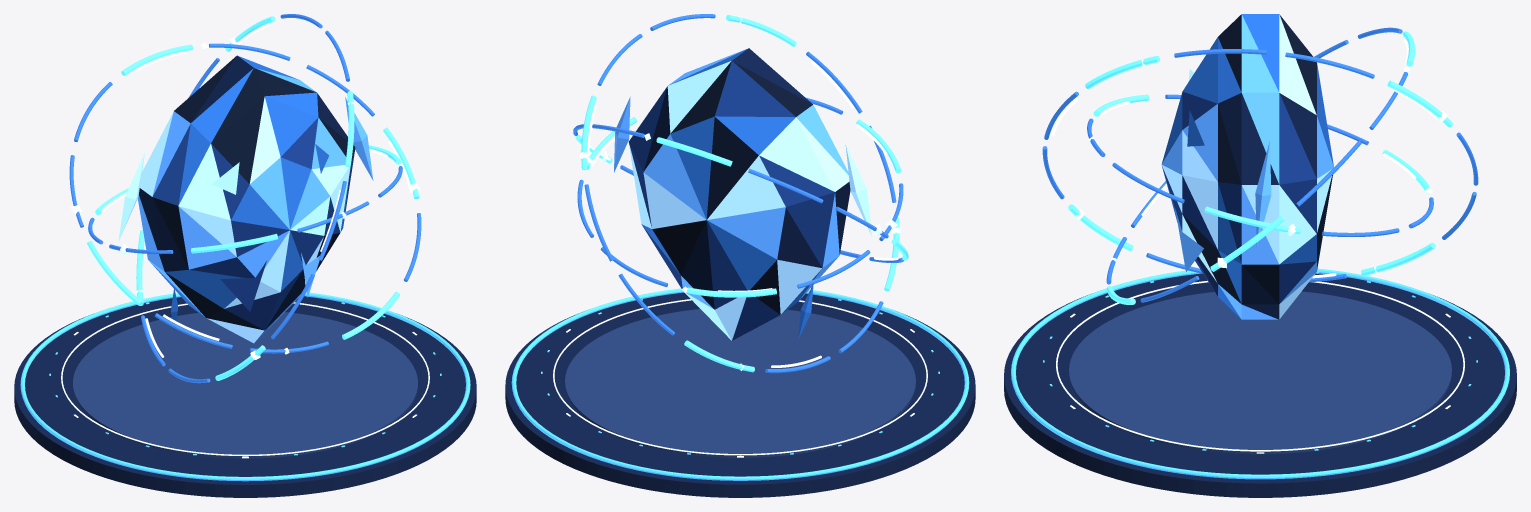
File: sapphire-aegis-threat-overview.glb
3 renders of one model, left to right at view 1: azimuth 30°, elevation 25°; view 2: azimuth 150°, elevation 25°; view 3: azimuth 270°, elevation 25°, orthographic. The views are drawn at different scales.
Visible parts, largest first — view 1: Sapphire_Aegis_Primary_Shield, Base_Glass_Surface, Holographic_Base, Precision_Orbit_Middle, Base_Luminous_Rim, Precision_Orbit_Outer, Precision_Orbit_Inner, Base_Precision_Rim, Sapphire_Armor_Left_Lower, Sapphire_Aegis_Shield_Fragment_Left, Sapphire_Aegis_Shield_Fragment_Right; view 2: Sapphire_Aegis_Primary_Shield, Base_Glass_Surface, Holographic_Base, Precision_Orbit_Outer, Base_Luminous_Rim, Precision_Orbit_Inner, Precision_Orbit_Middle, Base_Precision_Rim, Sapphire_Aegis_Shield_Fragment_Left, Sapphire_Aegis_Shield_Fragment_Right; view 3: Base_Glass_Surface, Holographic_Base, Sapphire_Aegis_Primary_Shield, Base_Luminous_Rim, Precision_Orbit_Outer, Precision_Orbit_Middle, Precision_Orbit_Inner, Base_Precision_Rim, Sapphire_Aegis_Shield_Fragment_Right, Sapphire_Armor_Right_Lower.
Part boxes in pixels (<box>): Sapphire_Aegis_Primary_Shield: <box>137,55,355,343</box>; Base_Glass_Surface: <box>73,312,417,458</box>; Holographic_Base: <box>14,296,476,497</box>; Precision_Orbit_Middle: <box>69,42,421,354</box>; Base_Luminous_Rim: <box>20,292,470,481</box>; Precision_Orbit_Outer: <box>136,14,354,383</box>; Precision_Orbit_Inner: <box>88,144,402,255</box>; Base_Precision_Rim: <box>61,302,429,456</box>; Sapphire_Armor_Left_Lower: <box>220,261,266,311</box>; Sapphire_Aegis_Shield_Fragment_Left: <box>118,152,144,241</box>; Sapphire_Aegis_Shield_Fragment_Right: <box>345,97,373,180</box>; Sapphire_Aegis_Primary_Shield: <box>628,48,850,340</box>; Base_Glass_Surface: <box>565,309,915,457</box>; Holographic_Base: <box>505,292,975,497</box>; Precision_Orbit_Outer: <box>579,14,901,373</box>; Base_Luminous_Rim: <box>511,288,969,480</box>; Precision_Orbit_Inner: <box>577,97,903,297</box>; Precision_Orbit_Middle: <box>573,124,908,262</box>; Base_Precision_Rim: <box>553,299,927,455</box>; Sapphire_Aegis_Shield_Fragment_Left: <box>845,144,871,235</box>; Sapphire_Aegis_Shield_Fragment_Right: <box>614,96,630,172</box>; Base_Glass_Surface: <box>1069,291,1451,454</box>; Holographic_Base: <box>1004,273,1516,497</box>; Sapphire_Aegis_Primary_Shield: <box>1161,14,1333,319</box>; Base_Luminous_Rim: <box>1011,268,1509,479</box>; Precision_Orbit_Outer: <box>1042,49,1478,282</box>; Precision_Orbit_Middle: <box>1106,27,1415,304</box>; Precision_Orbit_Inner: <box>1087,94,1433,236</box>; Base_Precision_Rim: <box>1056,280,1464,451</box>; Sapphire_Aegis_Shield_Fragment_Right: <box>1255,141,1271,247</box>; Sapphire_Armor_Right_Lower: <box>1175,208,1203,271</box>.
Size of the model in its own units: 7.1 by 5.87 by 7.1.
